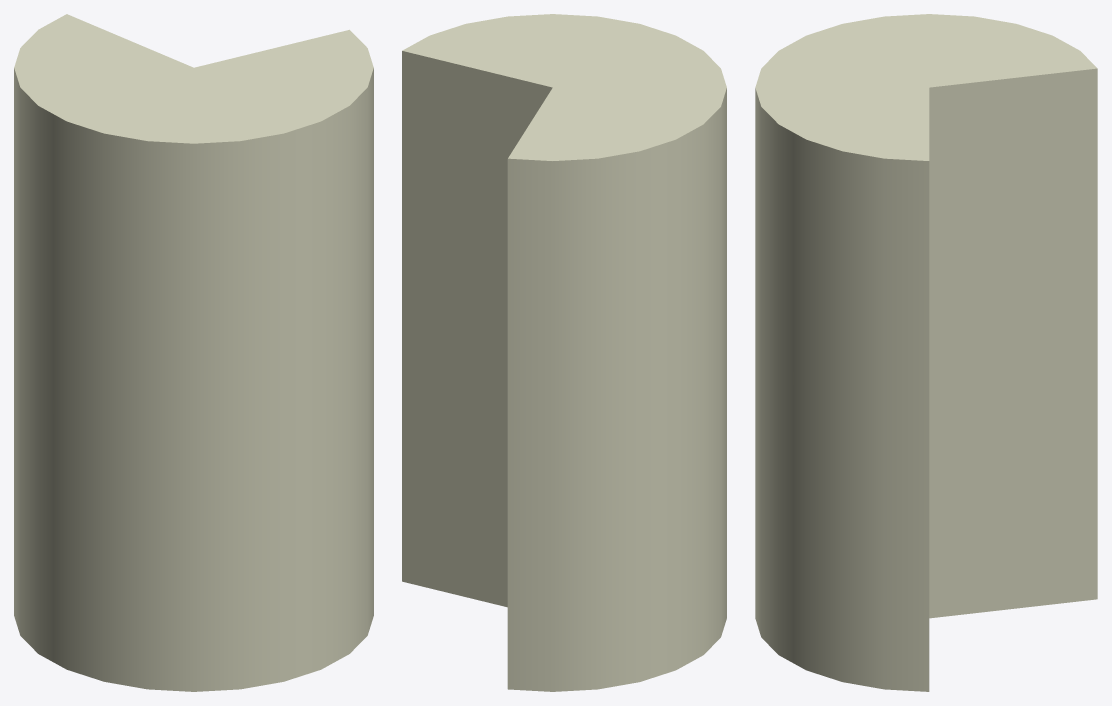
Rendered from cylinderpart.dae.
The picture shows the model from 3 angles, left to right: view 1: azimuth 30°, elevation 25°; view 2: azimuth 150°, elevation 25°; view 3: azimuth 270°, elevation 25°; orthographic projection. The views are drawn at different scales.
Visible parts, largest first — view 1: SketchUp; view 2: SketchUp; view 3: SketchUp.
Part boxes in pixels (left/top/right/bottom): SketchUp: left=14, top=14, right=373, bottom=691; SketchUp: left=402, top=14, right=726, bottom=691; SketchUp: left=755, top=14, right=1097, bottom=691.
Size of the model in its own units: 69.29 by 68.11 by 117.
